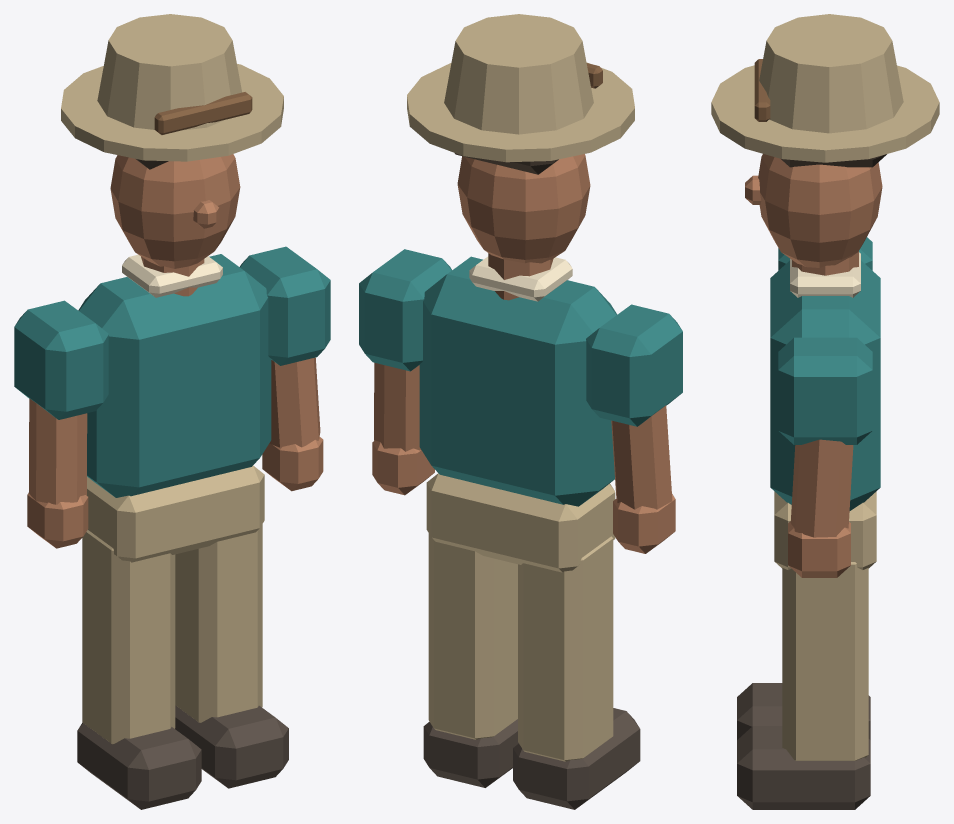
Rendered from explorer.glb.
3 renders of one model, left to right at view 1: azimuth 30°, elevation 25°; view 2: azimuth 150°, elevation 25°; view 3: azimuth 270°, elevation 25°, orthographic. The views are drawn at different scales.
Parts seen in each view (by area): view 1: torso, LeftTrouser, RightTrouser, hat_crown, hips, head, hat_brim, LeftSleeve, LeftShoe, RightSleeve, RightShoe, LeftForearm (+7 smaller); view 2: torso, LeftTrouser, RightTrouser, hat_crown, hips, head, hat_brim, LeftSleeve, RightSleeve, LeftShoe, LeftForearm, RightShoe (+6 smaller); view 3: RightTrouser, hat_crown, torso, head, hat_brim, RightSleeve, RightShoe, RightForearm, hips, RightHand, LeftShoe, collar (+4 smaller).
Part boxes in pixels (<box>): torso: <box>78,254,271,497</box>; LeftTrouser: <box>82,530,175,744</box>; RightTrouser: <box>175,524,262,722</box>; hat_crown: <box>97,14,241,130</box>; hips: <box>86,465,264,562</box>; head: <box>110,154,240,268</box>; hat_brim: <box>61,64,283,161</box>; LeftSleeve: <box>14,300,108,419</box>; LeftShoe: <box>77,722,201,809</box>; RightSleeve: <box>240,246,330,365</box>; RightShoe: <box>175,705,288,788</box>; LeftForearm: <box>29,398,87,504</box>; torso: <box>419,256,617,506</box>; LeftTrouser: <box>518,536,613,761</box>; RightTrouser: <box>428,533,517,739</box>; hat_crown: <box>444,14,593,134</box>; hips: <box>426,473,615,572</box>; head: <box>457,154,590,263</box>; hat_brim: <box>407,62,634,162</box>; LeftSleeve: <box>586,304,682,426</box>; RightSleeve: <box>359,249,451,371</box>; LeftShoe: <box>513,708,640,809</box>; LeftForearm: <box>611,405,672,509</box>; RightShoe: <box>423,719,518,787</box>; RightTrouser: <box>782,562,868,760</box>; hat_crown: <box>759,14,903,133</box>; torso: <box>770,260,880,510</box>; head: <box>758,154,882,267</box>; hat_brim: <box>711,65,939,162</box>; RightSleeve: <box>778,337,872,444</box>; RightShoe: <box>737,726,870,809</box>; RightForearm: <box>790,439,853,537</box>; hips: <box>774,491,876,569</box>; RightHand: <box>788,521,850,577</box>; LeftShoe: <box>737,683,870,739</box>; collar: <box>790,252,860,297</box>.
Bounding box in the file's own units: 0.85 × 2.06 × 0.58.
